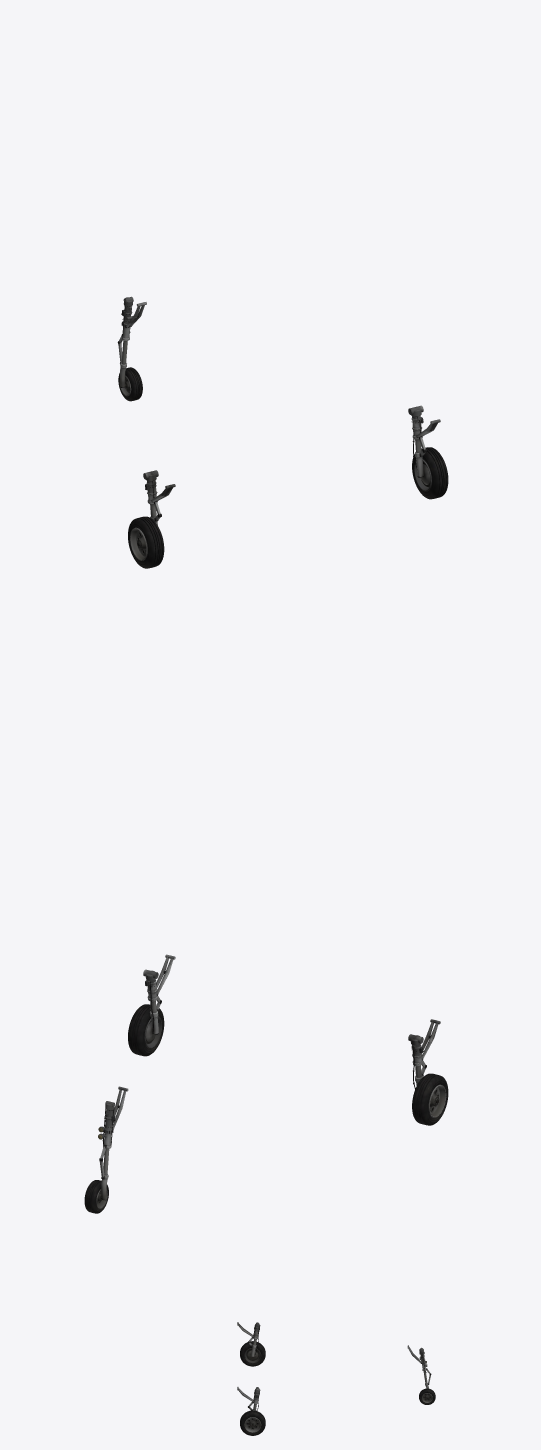
File: e_a10_gear.glb
3 renders of one model, top to bottom at view 1: azimuth 30°, elevation 25°; view 2: azimuth 150°, elevation 25°; view 3: azimuth 270°, elevation 25°, orthographic. The views are drawn at different scales.
Parts seen in each view (by area): view 1: body|A10_paint; view 2: body|A10_paint; view 3: body|A10_paint.
Boxes of the visible parts, x1,y1,x2,y2 form: body|A10_paint: (117, 296, 448, 568); body|A10_paint: (84, 954, 448, 1213); body|A10_paint: (237, 1322, 435, 1435).
Bounding box in the file's own units: 5.49 × 5.53 × 16.26.
Materials: 1 (1 with a texture image).
